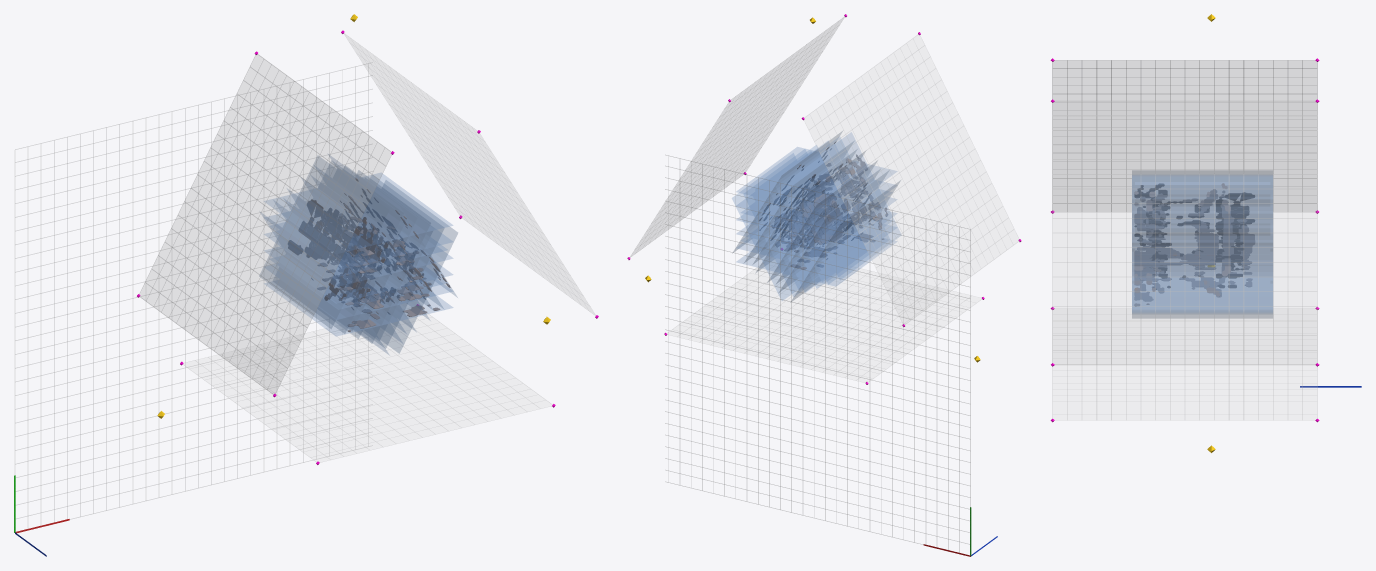
The model's file is faces_3wall_shards.obj.
The picture shows the model from 3 angles, left to right: view 1: azimuth 30°, elevation 25°; view 2: azimuth 150°, elevation 25°; view 3: azimuth 270°, elevation 25°; orthographic projection. The views are drawn at different scales.
Parts seen in each view (by area): view 1: wall_C, wall_A, wall_B, grid_floor, panel_C0, panel_A5, grid_wallC, panel_C1, panel_A4, panel_C3, panel_C5, panel_A2 (+15 smaller); view 2: wall_C, wall_A, grid_floor, wall_B, panel_C0, panel_A5, panel_C1, grid_wallC, panel_A4, panel_C3, panel_C5, panel_A2 (+17 smaller); view 3: wall_B, wall_C, wall_A, panel_B0, grid_wallB, panel_C5, panel_A5, panel_B1, panel_C4, panel_C2, panel_A4, panel_C3 (+12 smaller).
Part boxes in pixels (x1,y1,x2,y2): wall_C: [140, 55, 390, 393]; wall_A: [183, 314, 551, 461]; wall_B: [345, 34, 595, 315]; grid_floor: [15, 62, 372, 532]; panel_C0: [259, 156, 389, 328]; panel_A5: [264, 173, 452, 253]; grid_wallC: [140, 54, 391, 394]; panel_C1: [273, 160, 403, 333]; panel_A4: [265, 211, 452, 270]; panel_C3: [356, 170, 430, 343]; panel_C5: [380, 180, 457, 353]; panel_A2: [264, 247, 452, 303]; wall_C: [804, 35, 1018, 323]; wall_A: [667, 268, 981, 382]; grid_floor: [665, 155, 970, 555]; wall_B: [631, 18, 843, 256]; panel_C0: [790, 132, 900, 279]; panel_A5: [736, 147, 896, 215]; panel_C1: [778, 137, 889, 284]; grid_wallC: [804, 35, 1018, 324]; panel_A4: [736, 180, 896, 229]; panel_C3: [755, 145, 818, 292]; panel_C5: [732, 153, 797, 300]; panel_A2: [736, 210, 896, 258]; wall_B: [1053, 102, 1316, 364]; wall_C: [1053, 61, 1316, 211]; wall_A: [1053, 309, 1316, 419]; panel_B0: [1132, 175, 1272, 305]; grid_wallB: [1052, 101, 1317, 364]; panel_C5: [1132, 243, 1272, 318]; panel_A5: [1132, 211, 1272, 232]; panel_B1: [1132, 177, 1272, 307]; panel_C4: [1132, 229, 1272, 242]; panel_C2: [1132, 199, 1272, 210]; panel_A4: [1132, 236, 1272, 246]; panel_C3: [1132, 214, 1272, 224].
Bounding box in the file's own units: 3509 × 3736 × 2115.
